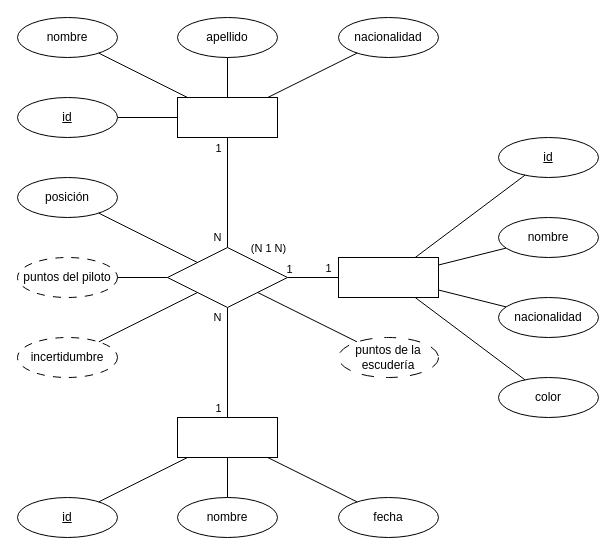
Image size: 616x555. Some labels were removed from this diagram. The shapes that lost their labels are listed below. From the top down, each one's centre as x and y in pixels, then its label:
the point at 227,117: PILOTOS
the point at 227,277: participar
the point at 388,277: ESCUDERIAS
the point at 227,437: CARRERAS
